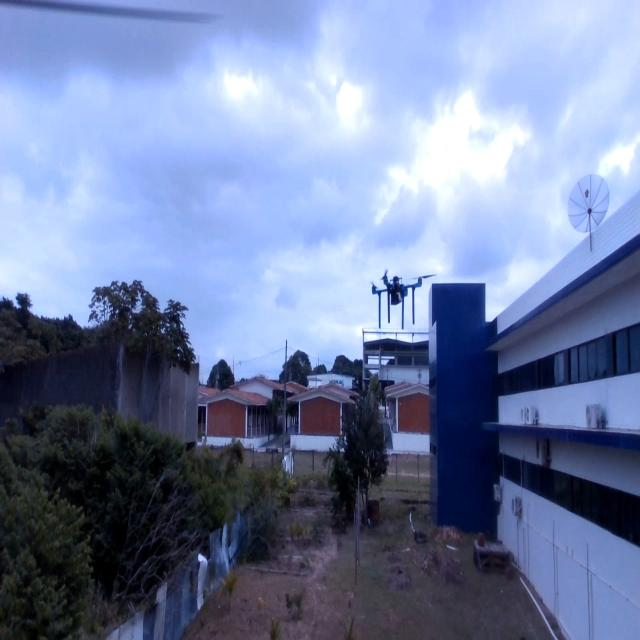-uav-: (362, 250, 438, 342)
